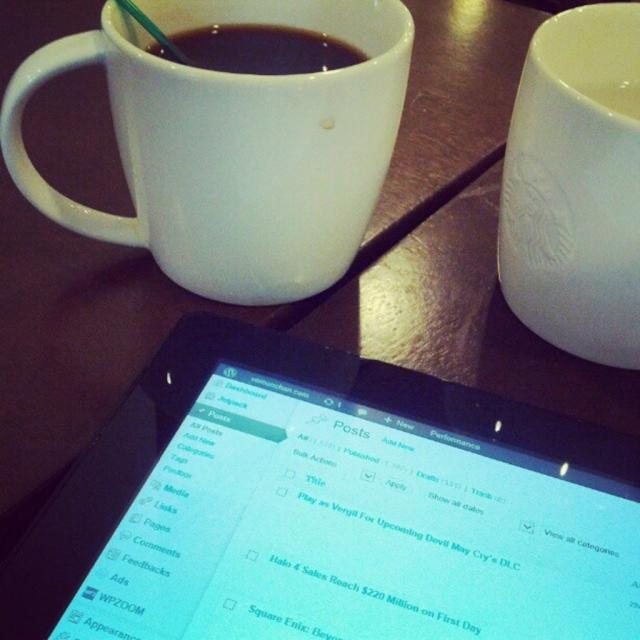Coffee: (44, 3, 428, 294)
Tea: (148, 20, 370, 73)
